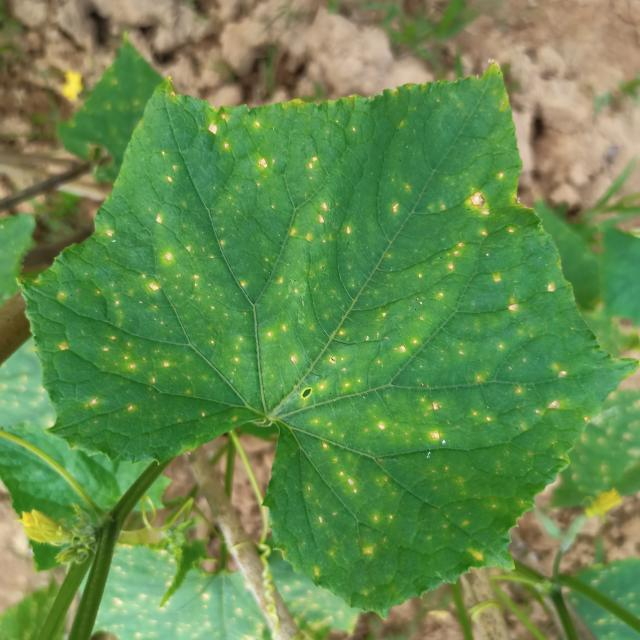disease_cucumber: (81, 88, 578, 574)
